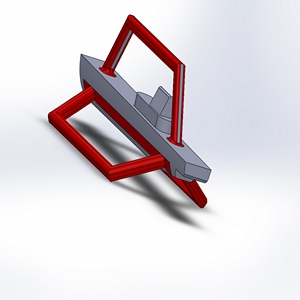submarine: (15, 2, 241, 220)
